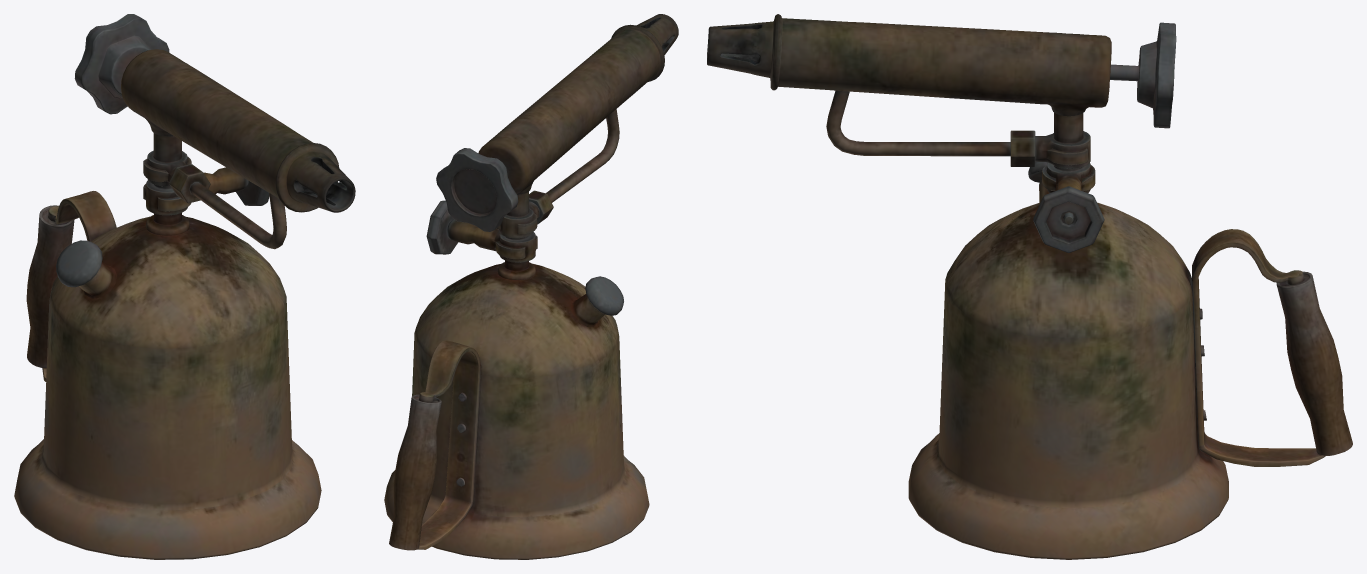
Rendered from paayalnik_tripo.glb.
3 renders of one model, left to right at view 1: azimuth 30°, elevation 25°; view 2: azimuth 150°, elevation 25°; view 3: azimuth 270°, elevation 25°, orthographic. The views are drawn at different scales.
Visible parts, largest first — view 1: brass_blowtorch; view 2: brass_blowtorch; view 3: brass_blowtorch.
Part boxes in pixels (<box>): brass_blowtorch: <box>14,14,355,559</box>; brass_blowtorch: <box>384,14,678,559</box>; brass_blowtorch: <box>707,14,1352,559</box>.
Size of the model in its own units: 0.1295 by 0.2106 by 0.2593.
Materials: 1 (1 with a texture image).
